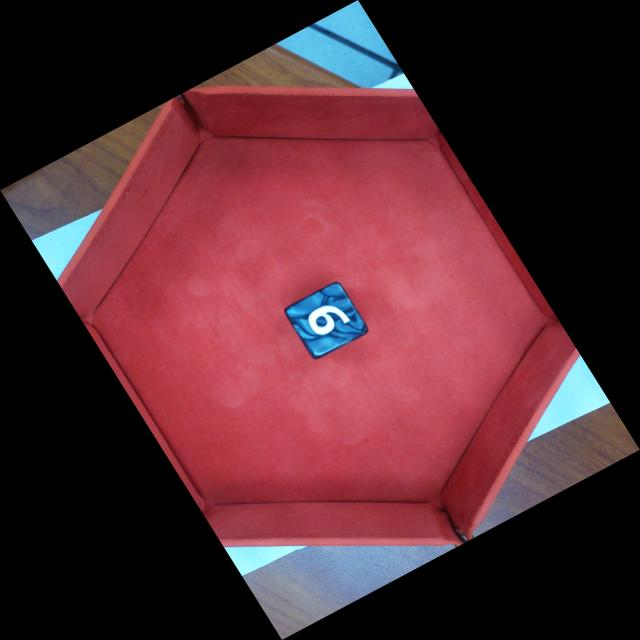dice: (282, 278, 373, 364)
